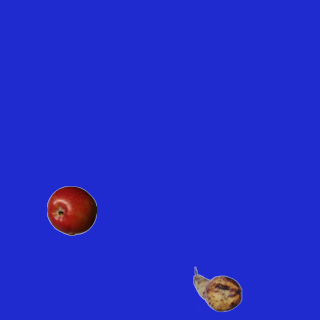Apple Braeburn: (46, 185, 96, 235)
Pear Abate: (192, 264, 242, 314)
